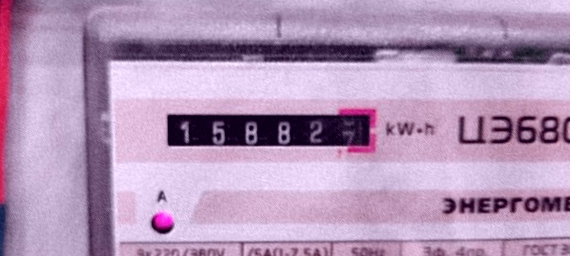1: (179, 119, 193, 145)
2: (309, 119, 324, 143)
5: (211, 119, 227, 145)
7: (342, 127, 356, 147)
8: (244, 120, 260, 146), (277, 120, 292, 145)
screen: (152, 98, 386, 164)
